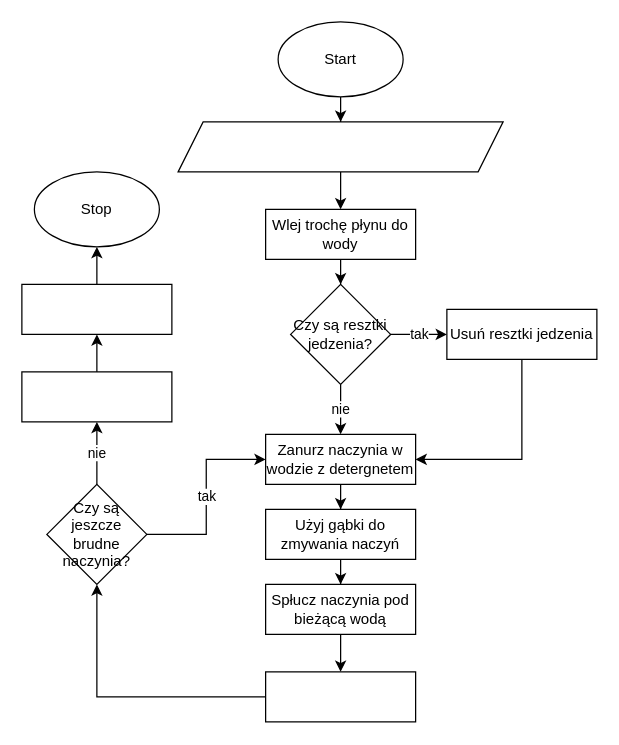
The diagram is 619 pixels wide and 745 high, and some of its shapes have lost their labels. Here are the shapes that lost their labels. From the top down, the centre of each, then its label:
(340,146): Przygotuj płyn do zmywania, gąbkę oraz wypełnij zlew ciepłą wodą
(96,308): Wytrzyj zlew i okolice, pozostaw do wyschnięcia
(96,396): Opłucz zlew bieżącą woda
(340,696): Umieść umyte naczynia w stojaku do wysuszenia
